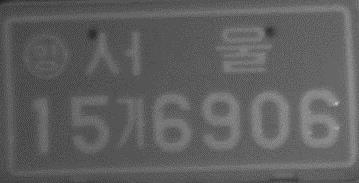0: (249, 89, 291, 150)
1: (29, 94, 54, 157)
5: (68, 92, 112, 155)
6: (297, 86, 341, 150), (152, 90, 193, 153)
9: (200, 92, 244, 152)
가: (115, 95, 149, 152)
서울_D: (83, 24, 273, 83)
영: (21, 32, 69, 84)
